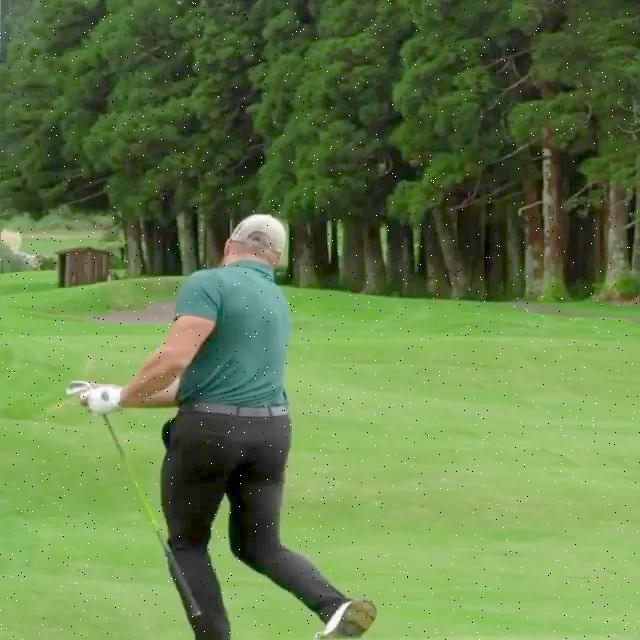golf club-handle: (68, 380, 201, 618)
golf club-head: (65, 379, 88, 397)
